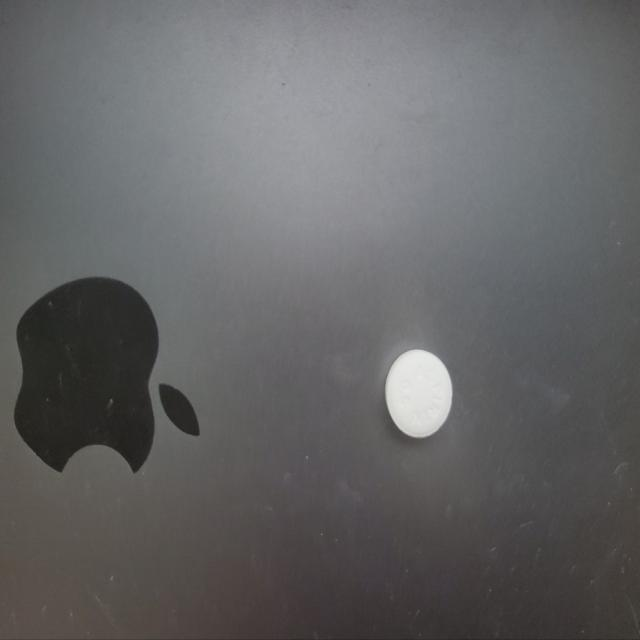-: (377, 332, 462, 452)
